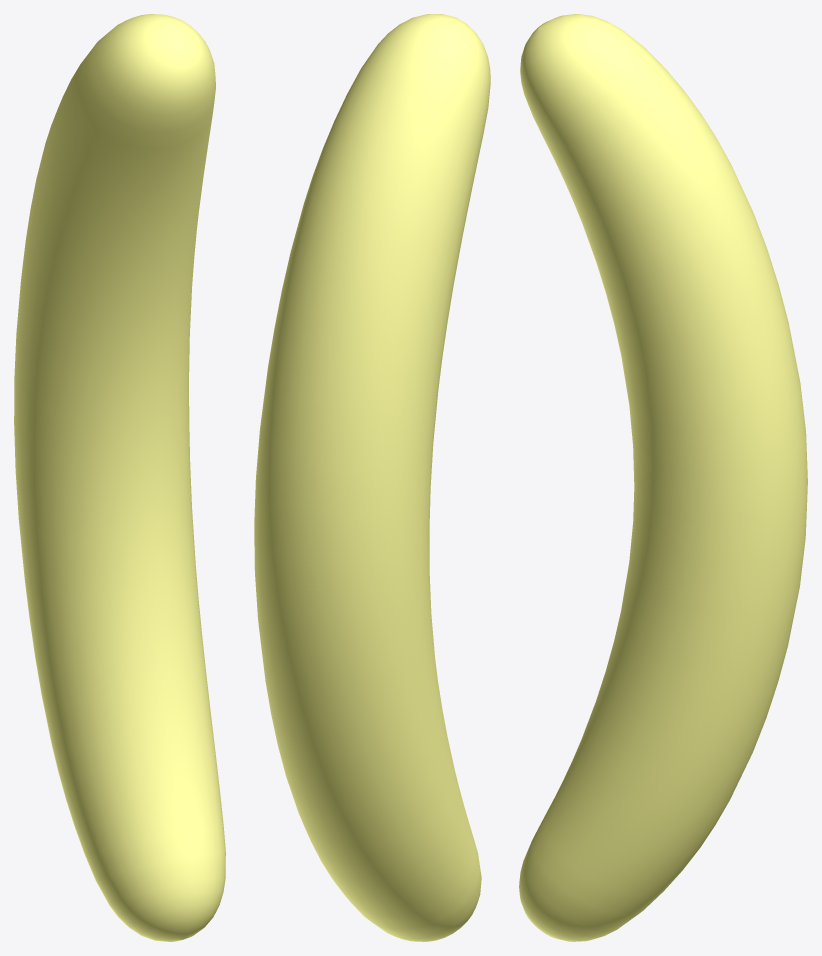
The model's file is Banana.fbx.
3 views of the same model, side by side, from view 1: azimuth 30°, elevation 25°; view 2: azimuth 150°, elevation 25°; view 3: azimuth 270°, elevation 25° (orthographic).
Parts seen in each view (by area): view 1: Corpo; view 2: Corpo; view 3: Corpo.
Part boxes in pixels (x1,y1,x2,y2): Corpo: (14,14,225,941); Corpo: (254,14,490,941); Corpo: (519,14,807,941).
Bounding box in the file's own units: 4.59 × 26.01 × 7.47.
